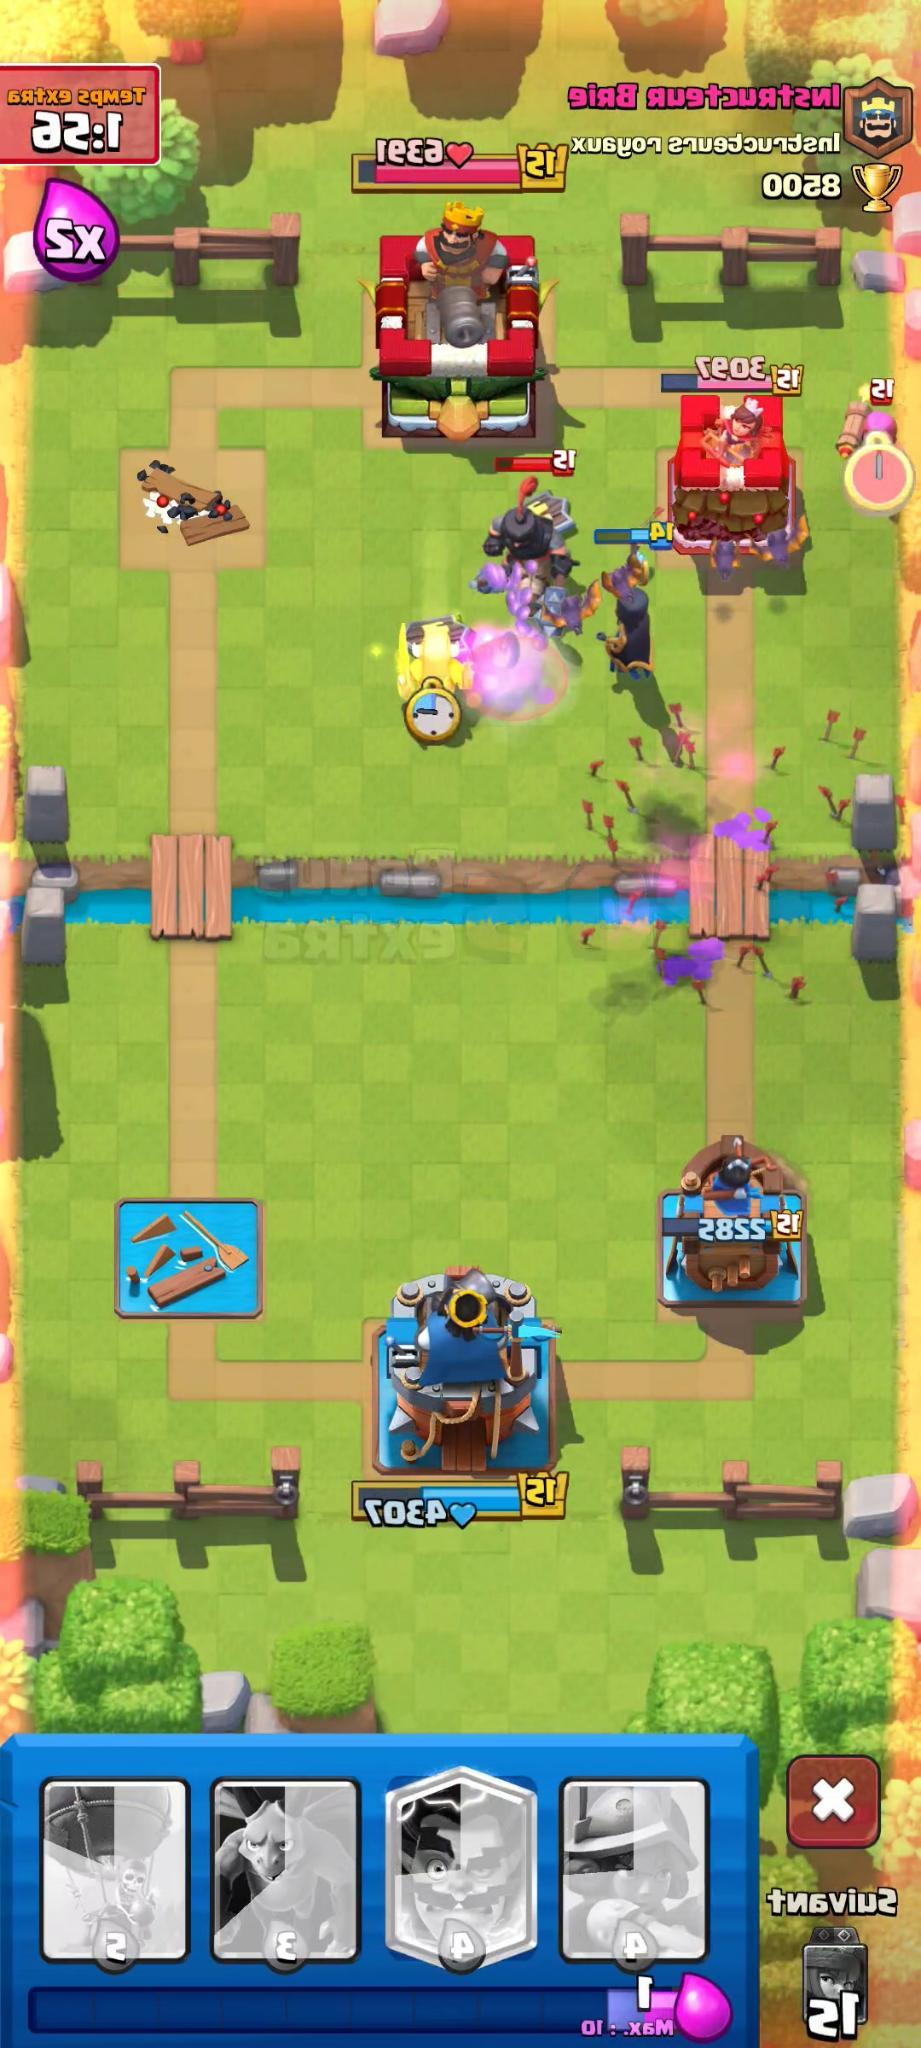enemy_arrows: (572, 690, 875, 1028)
enemy_dark_prince: (471, 461, 586, 590)
enemy_firecracker: (822, 368, 910, 512)
player_night_witch: (586, 519, 679, 683)
